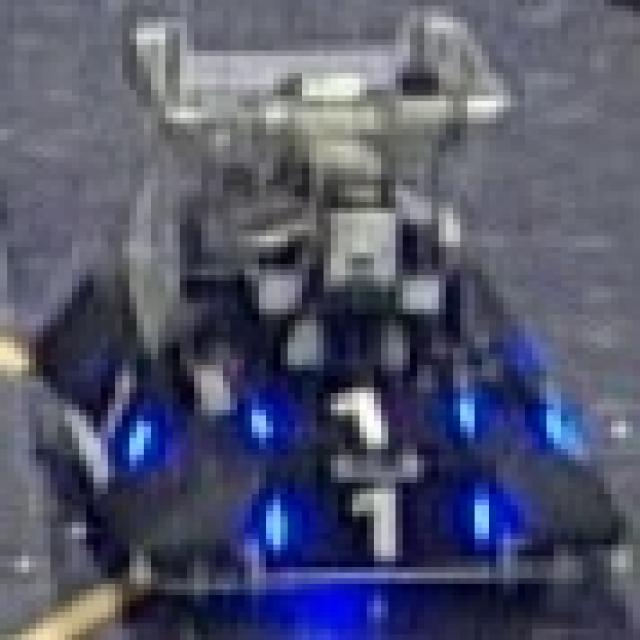B1: (248, 478, 493, 562), (230, 371, 475, 449), (64, 340, 172, 463)
